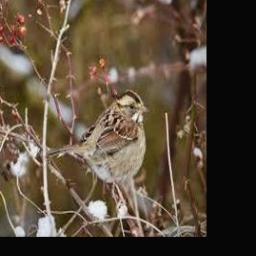Sparrow: (47, 90, 150, 197)
